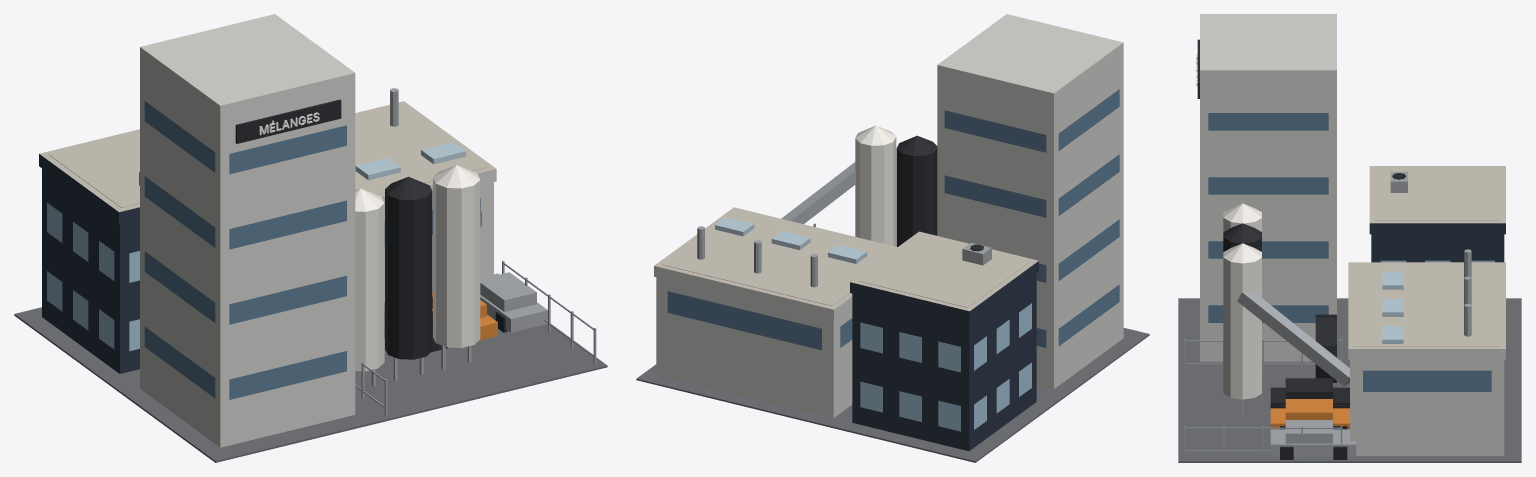
The model's file is Sanayi_fabrika_lastik_Hafif.fbx.
The picture shows the model from 3 angles, left to right: view 1: azimuth 30°, elevation 25°; view 2: azimuth 150°, elevation 25°; view 3: azimuth 270°, elevation 25°; orthographic projection. The views are drawn at different scales.
Visible parts, largest first — view 1: Sanayi_fabrika_lastik_Hafif; view 2: Sanayi_fabrika_lastik_Hafif; view 3: Sanayi_fabrika_lastik_Hafif.
Part boxes in pixels (bbox=[...]): Sanayi_fabrika_lastik_Hafif: bbox=[14, 14, 607, 462]; Sanayi_fabrika_lastik_Hafif: bbox=[636, 14, 1149, 462]; Sanayi_fabrika_lastik_Hafif: bbox=[1178, 14, 1521, 462].
Bounding box in the file's own units: 18 × 15.08 × 16.
